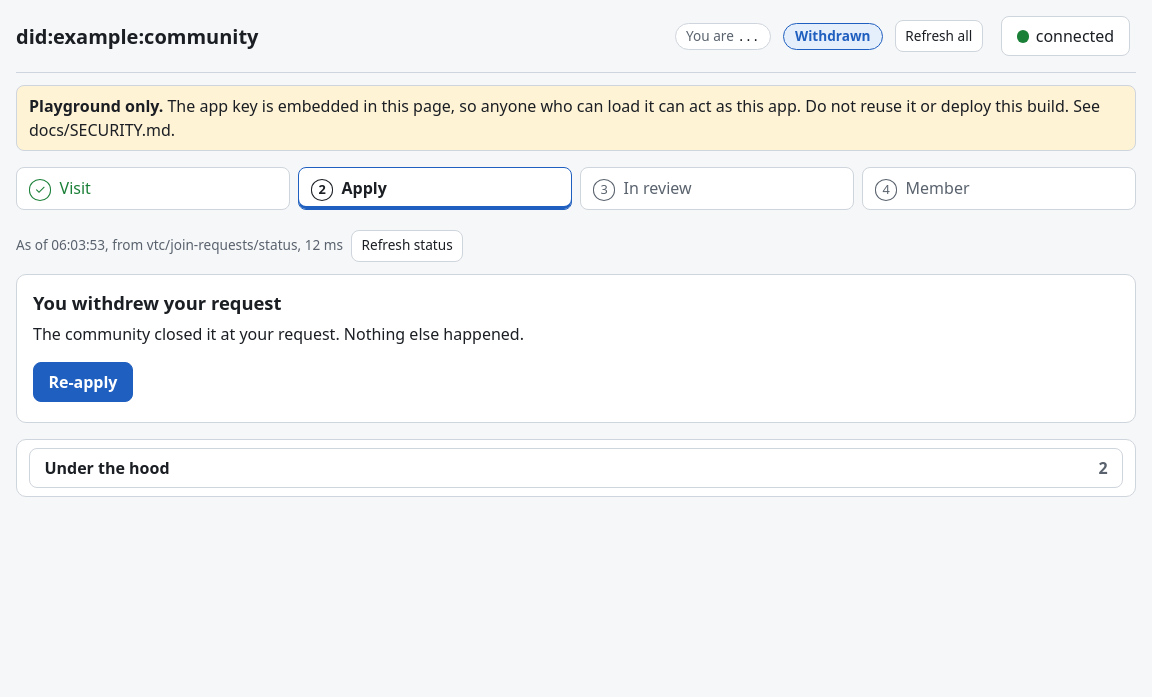
Test: ended states › withdrawn offers Re-apply, which returns to the apply form
Expected: the heading "You withdrew your request" is shown, [33,290,282,315]
Click the button "Re-apply" at (83, 382), box [33,362,133,402]
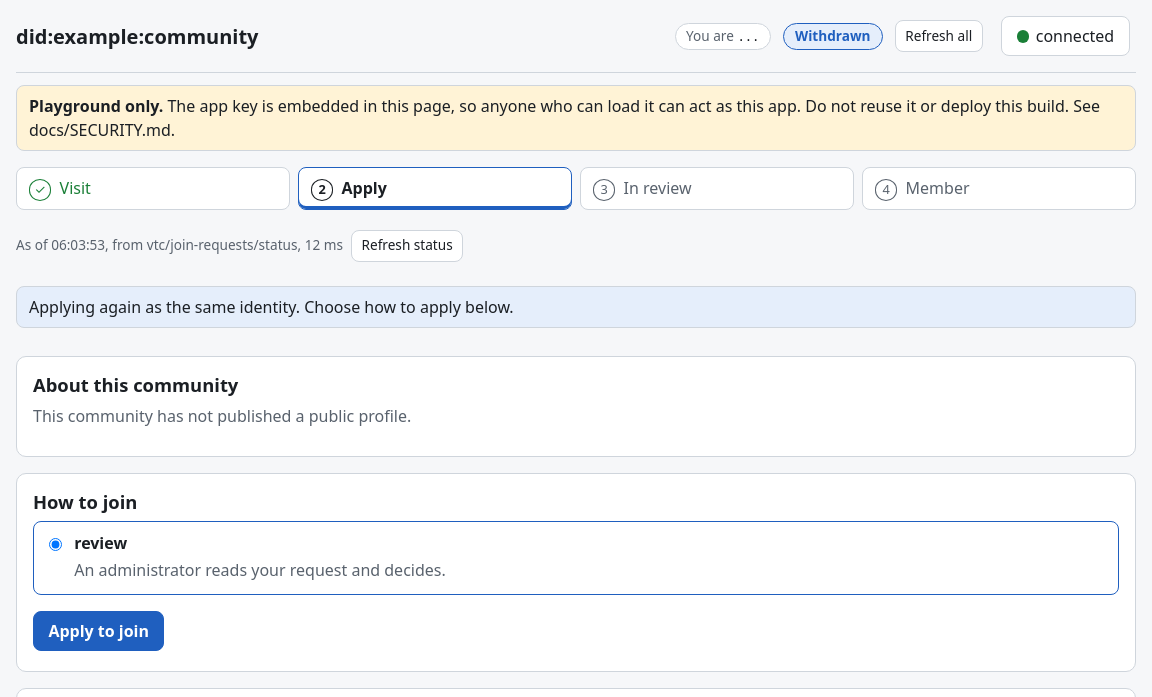
Expected: the text "Applying again as the same identity" is shown, [29,296,514,318]
Expected: the button "Apply to join" is shown, [33,610,164,651]
